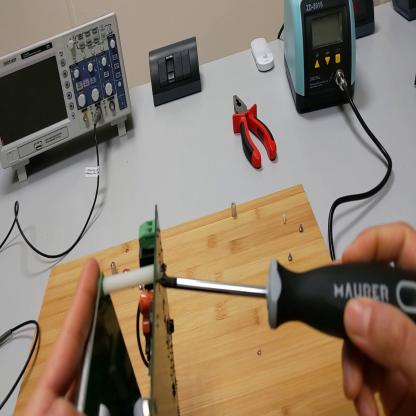hand: (329, 222, 416, 413), (23, 256, 103, 415)
low voltage board: (104, 203, 184, 413)
oscilloscope: (2, 14, 131, 183)
oscilloscope probe tip: (2, 326, 12, 345)
pliers: (229, 94, 281, 173)
screwdriver-: (160, 245, 416, 337)
socket: (355, 3, 379, 40), (393, 1, 416, 22)
welder station: (284, 1, 357, 117)
working area: (14, 176, 388, 415)
